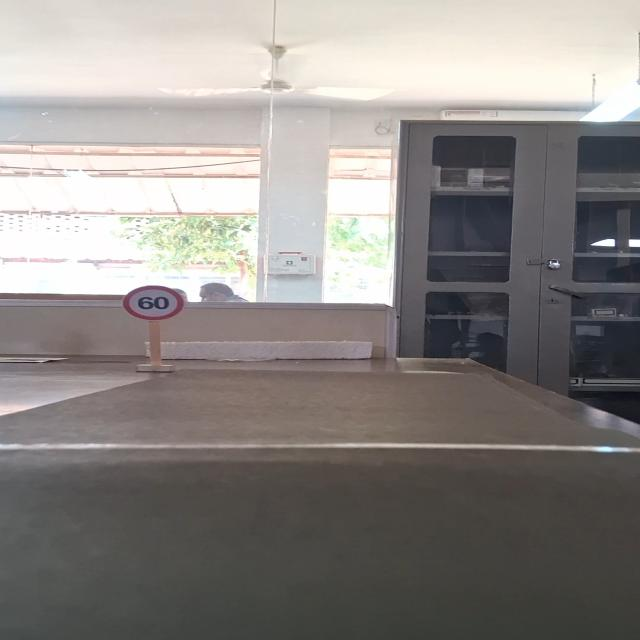Speed60: (120, 285, 185, 321)
